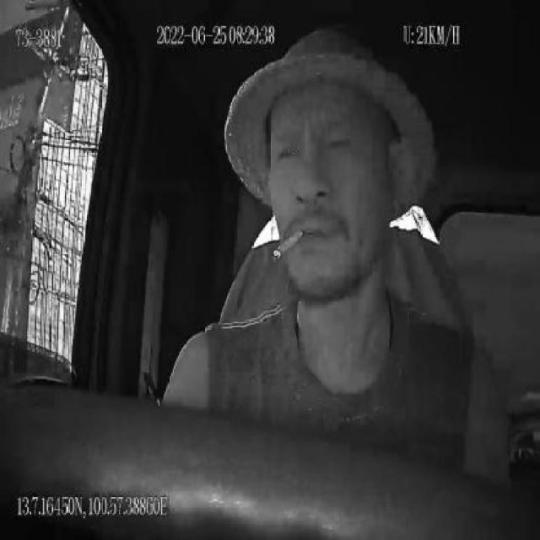smoking: (272, 228, 306, 261)
